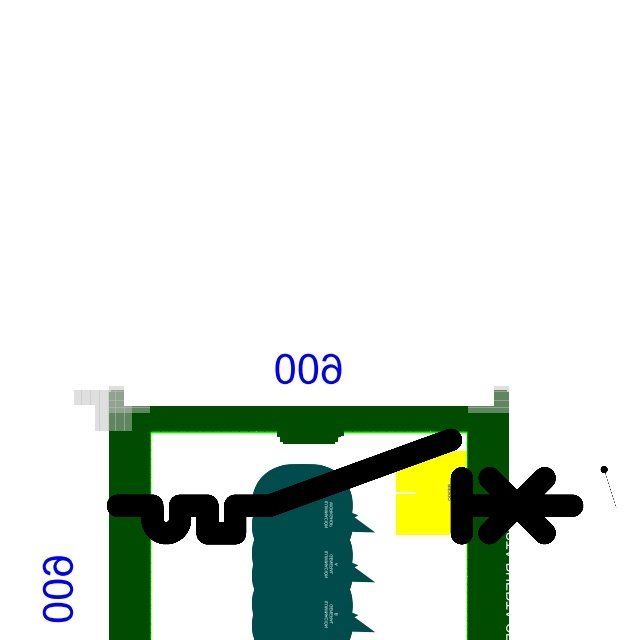interruptor_termomagnetico: (106, 428, 584, 545)
